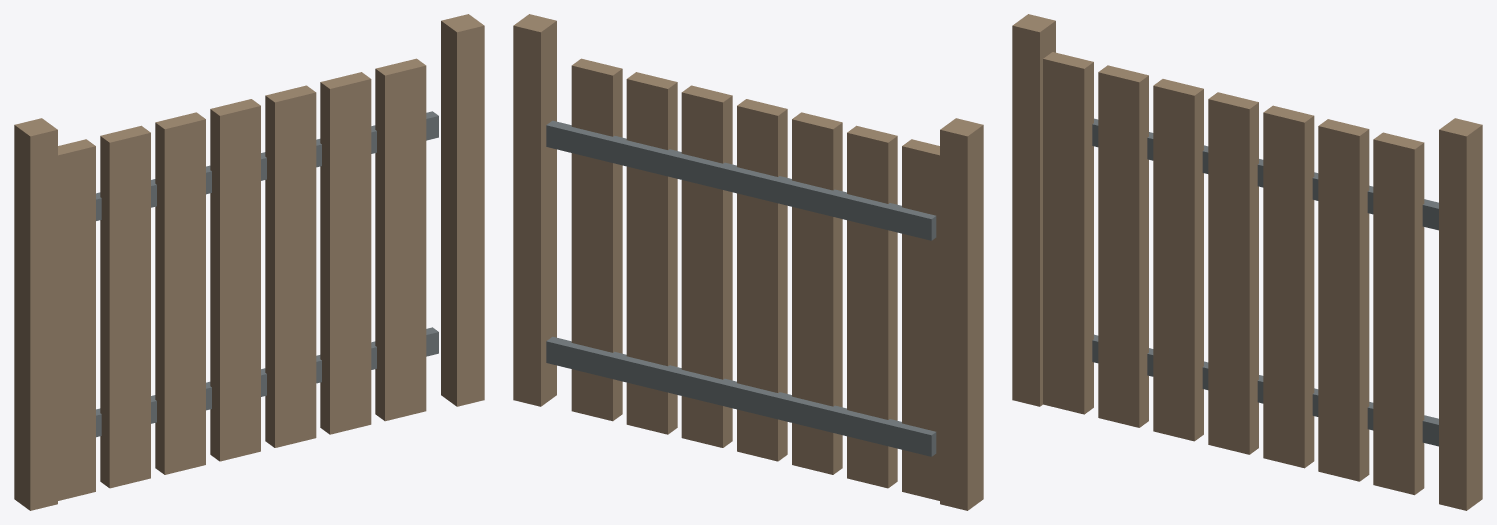
Rendered from gate.glb.
3 views of the same model, side by side, from view 1: azimuth 30°, elevation 25°; view 2: azimuth 150°, elevation 25°; view 3: azimuth 330°, elevation 25° (orthographic).
Parts seen in each view (by area): view 1: gate, body; view 2: gate, body; view 3: gate, body.
Part boxes in pixels (left/top/right/bottom): gate: left=58, top=58, right=438, bottom=500; body: left=14, top=14, right=484, bottom=510; gate: left=546, top=58, right=939, bottom=500; body: left=513, top=14, right=983, bottom=510; gate: left=1043, top=52, right=1438, bottom=495; body: left=1012, top=14, right=1482, bottom=510.
Bounding box in the file's own units: 3.3 × 2.6 × 0.22.
